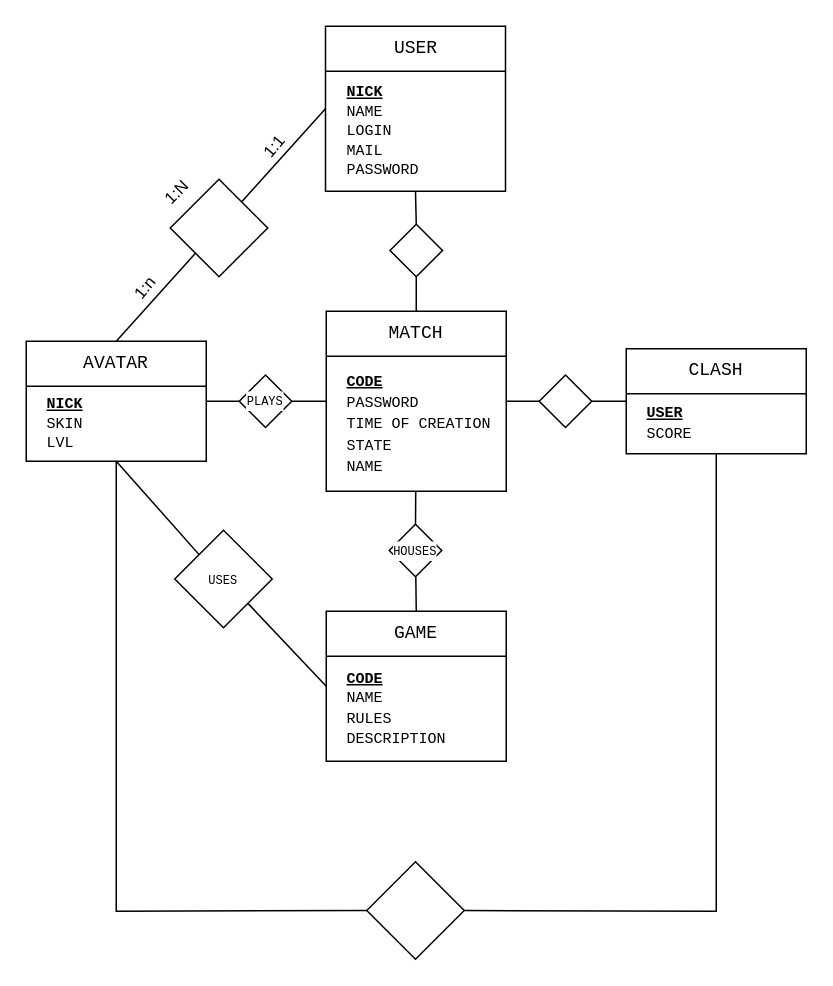
Image size: 833x986. Some labels were removed from this diagram. Here are the shapes that lost their labels. From the top down, the centre of each, then its label:
pixel 218 227: POSSESES
pixel 415 250: CREATES
pixel 565 401: TAKE PLACE
pixel 414 909: FIGHTS
